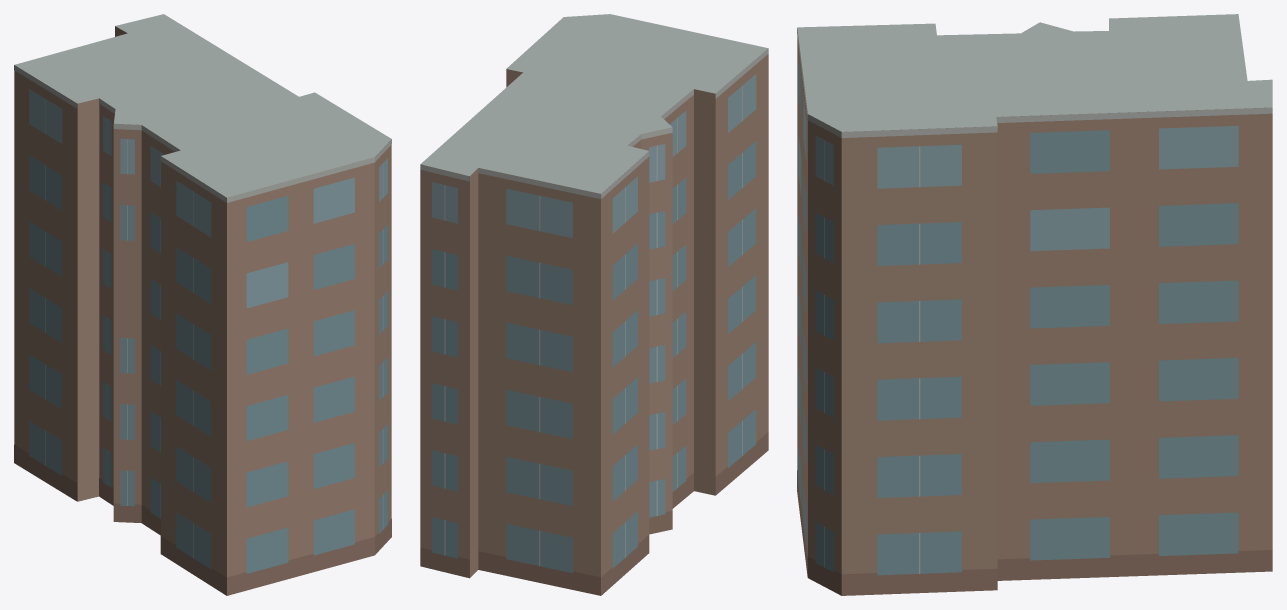
File: survey-upis-32724965.glb
The picture shows the model from 3 angles, left to right: view 1: azimuth 30°, elevation 25°; view 2: azimuth 150°, elevation 25°; view 3: azimuth 270°, elevation 25°; orthographic projection. The views are drawn at different scales.
Visible parts, largest first — view 1: survey-upis-32724965.tmp; view 2: survey-upis-32724965.tmp; view 3: survey-upis-32724965.tmp.
Part boxes in pixels (x1=…): survey-upis-32724965.tmp: x1=14, y1=14, x2=391, y2=595; survey-upis-32724965.tmp: x1=420, y1=14, x2=768, y2=595; survey-upis-32724965.tmp: x1=797, y1=14, x2=1272, y2=595.
Size of the model in its own units: 9.98 by 18.3 by 17.01.
